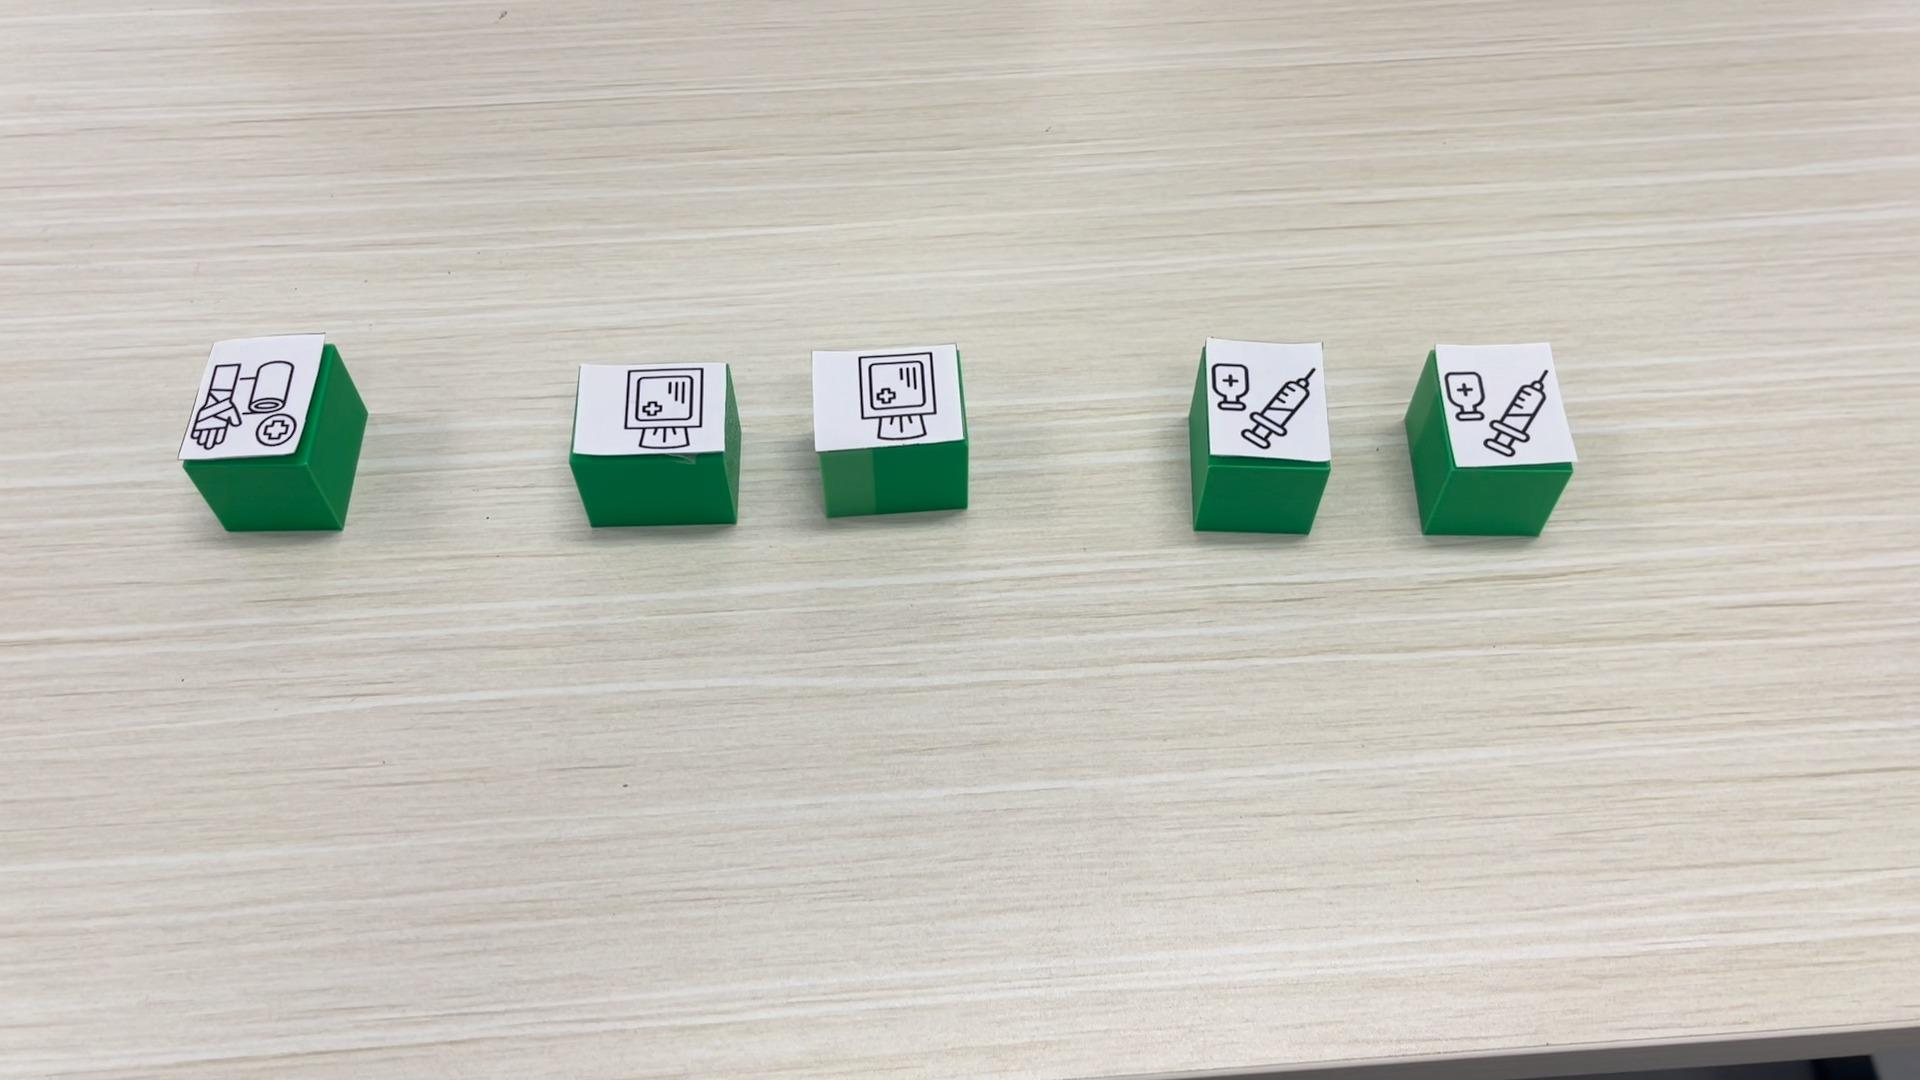Bandages: (179, 332, 367, 531)
Gauze: (808, 342, 972, 521), (568, 359, 741, 527)
antiseptic cream: (1400, 340, 1577, 537), (1185, 335, 1332, 534)
